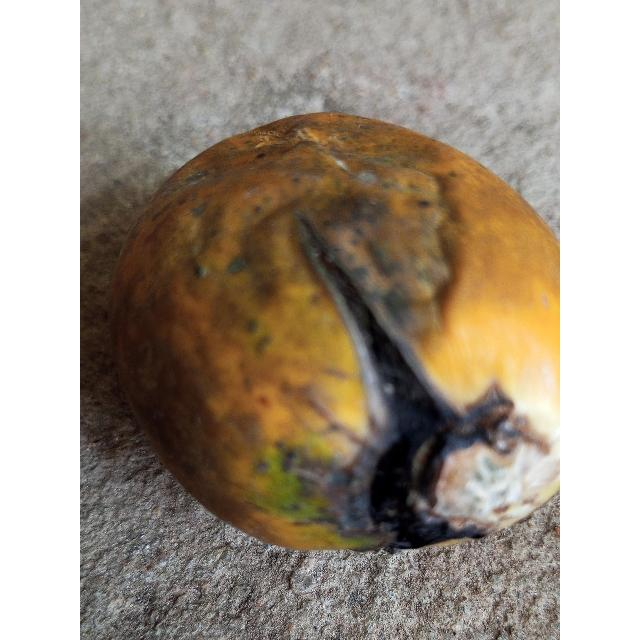damaged: (112, 114, 560, 550)
